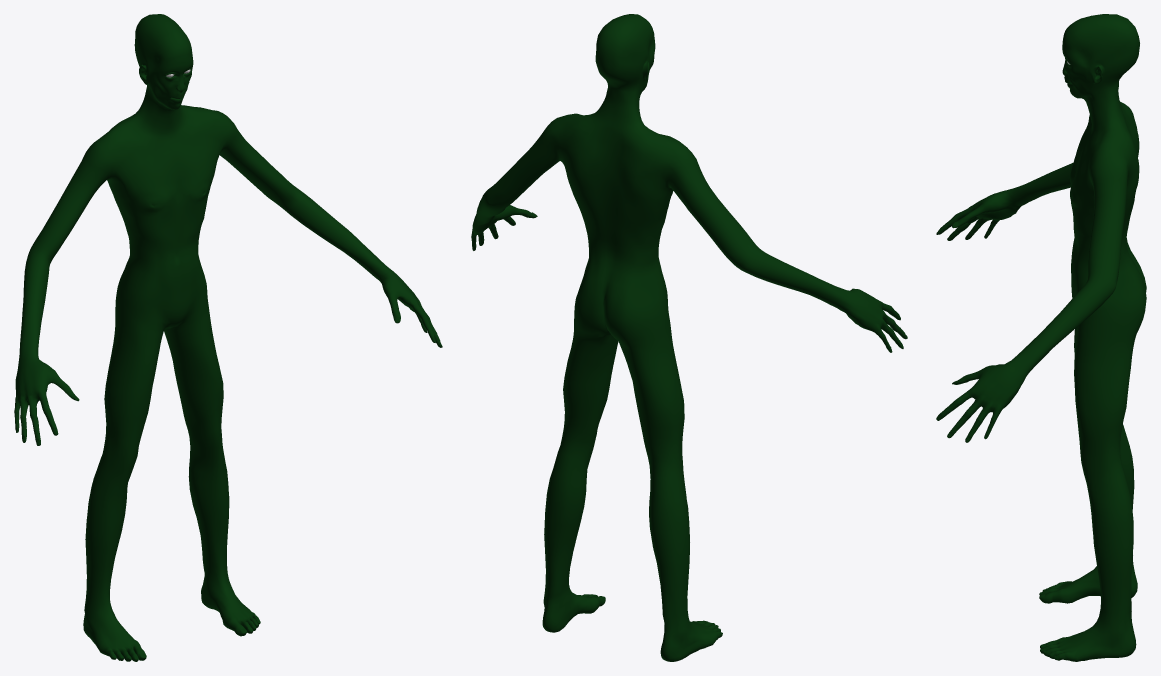
File: AlienSistemaSolar.obj
3 renders of one model, left to right at view 1: azimuth 30°, elevation 25°; view 2: azimuth 150°, elevation 25°; view 3: azimuth 270°, elevation 25°, orthographic.
Visible parts, largest first — view 1: alienMesh_alien; view 2: alienMesh_alien; view 3: alienMesh_alien.
Boxes of the visible parts, x1,y1,x2,y2 form: alienMesh_alien: (14, 14, 442, 661); alienMesh_alien: (471, 14, 907, 661); alienMesh_alien: (936, 14, 1146, 661).
Bounding box in the file's own units: 1.68 × 2.36 × 0.7351.
